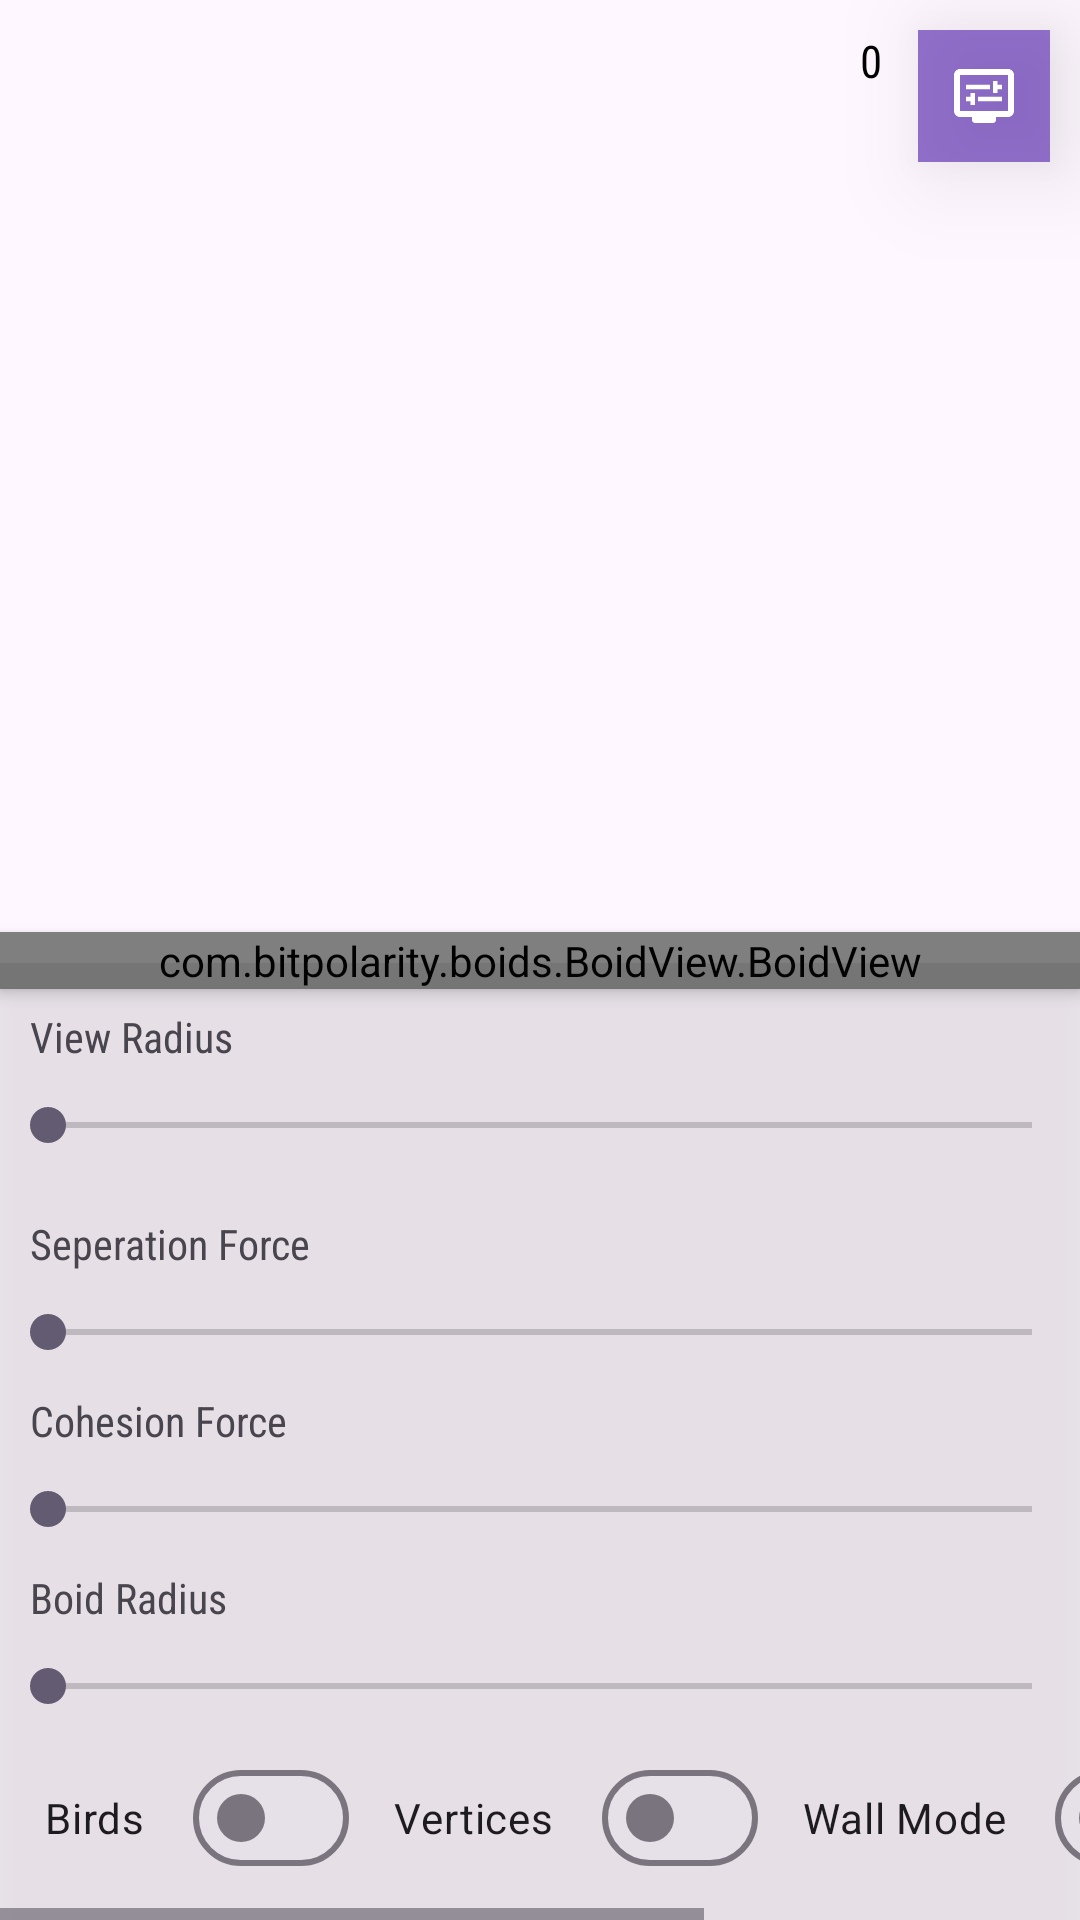

Screen size 1080px x 1920px. Icon name, then its center in pixels as (x=x, y=y):
display settings: (x=984, y=96)
